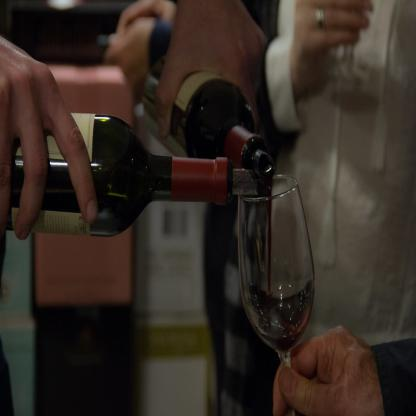drinking: (0, 113, 234, 237), (237, 175, 316, 415), (142, 52, 275, 180)
